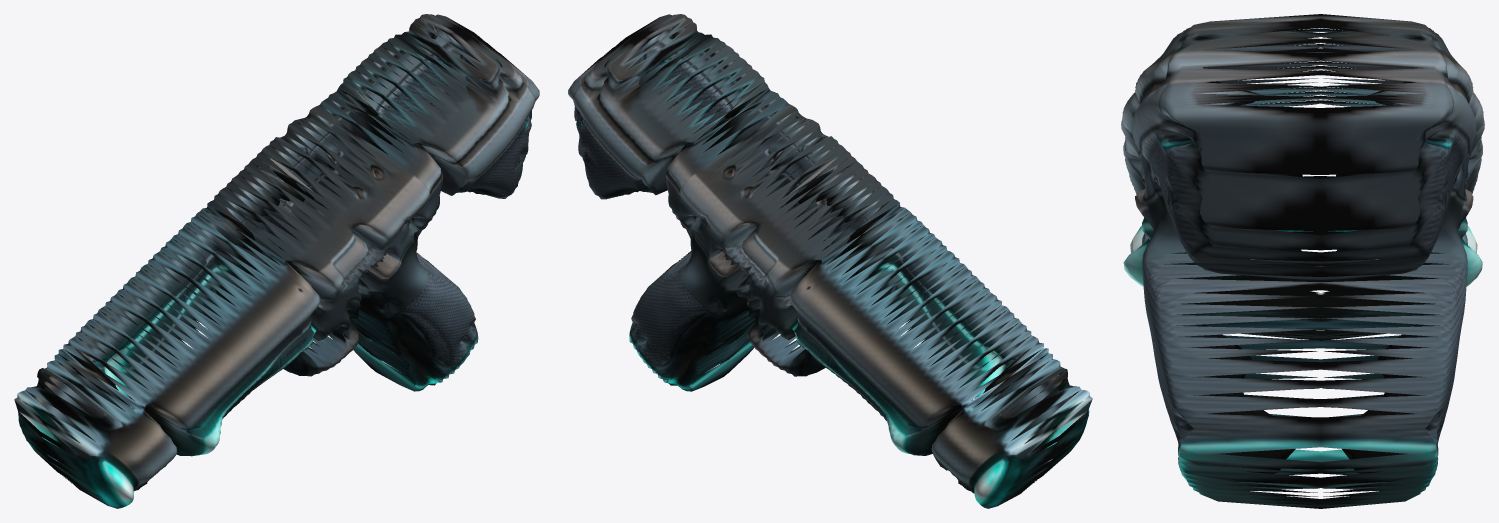
The model's file is latest_model.glb.
3 views of the same model, side by side, from view 1: azimuth 30°, elevation 25°; view 2: azimuth 150°, elevation 25°; view 3: azimuth 270°, elevation 25° (orthographic). The views are drawn at different scales.
Bounding box in the file's own units: 1.43 × 1.08 × 0.5915.
1 material, 1 textured.
